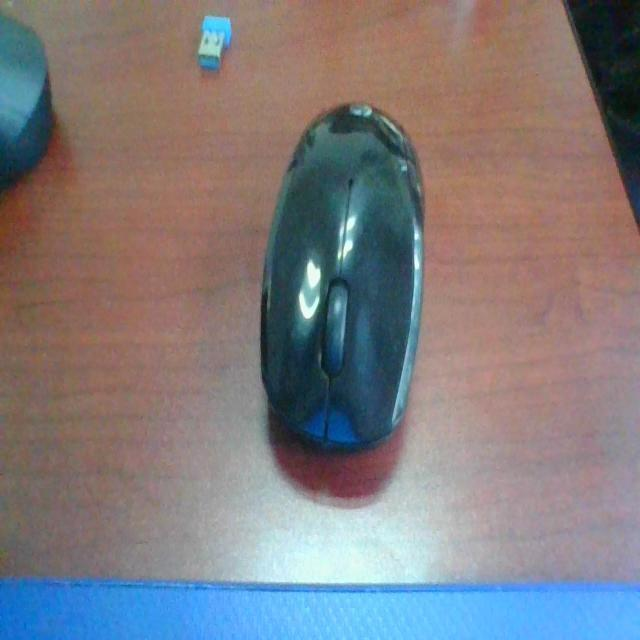Mouse: (260, 96, 434, 477)
